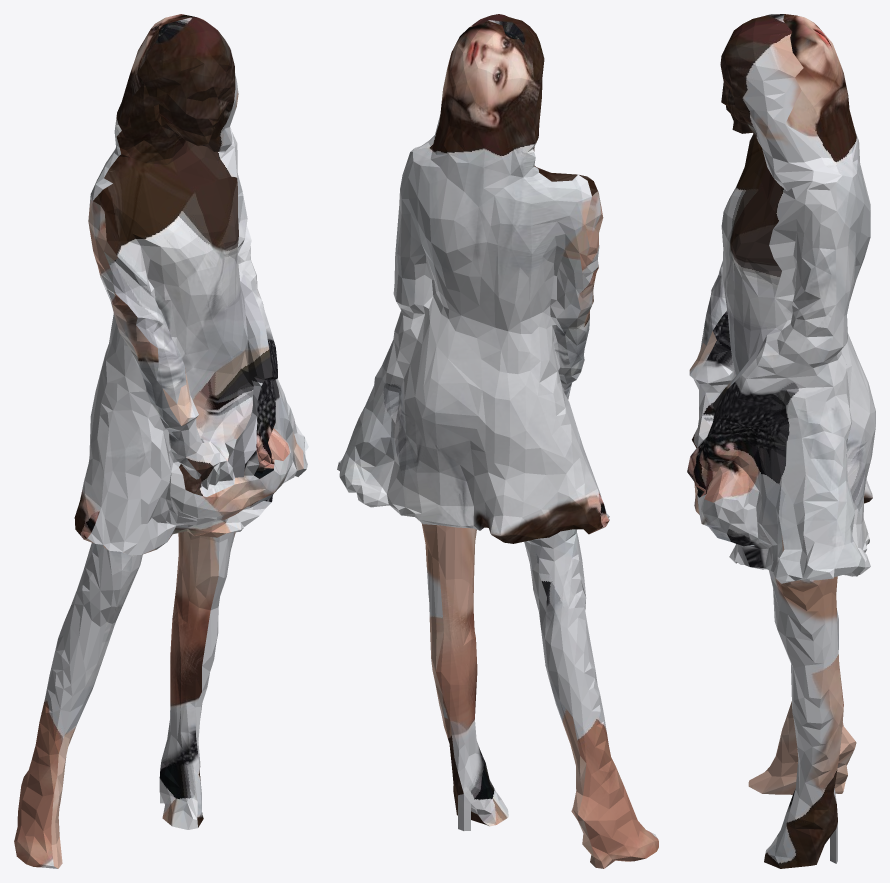
The picture shows the model from 3 angles, left to right: view 1: azimuth 30°, elevation 25°; view 2: azimuth 150°, elevation 25°; view 3: azimuth 270°, elevation 25°; orthographic projection. The views are drawn at different scales.
Parts seen in each view (by area): view 1: wm_3; view 2: wm_3; view 3: wm_3.
Part boxes in pixels (x1=…): wm_3: x1=14, y1=14, x2=308, y2=868; wm_3: x1=337, y1=14, x2=658, y2=868; wm_3: x1=687, y1=14, x2=875, y2=868.
Size of the model in its own units: 0.6575 by 1.7 by 0.3452.
1 material, 1 textured.
